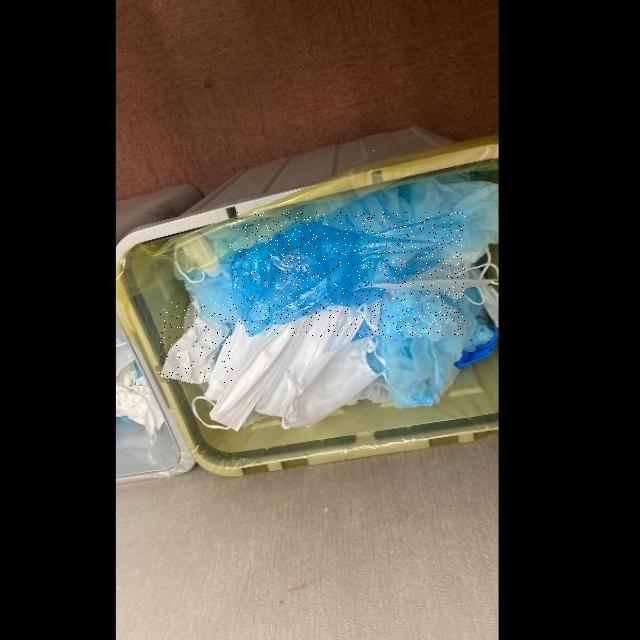paper: (161, 302, 235, 383)
plastic: (231, 212, 465, 336)
